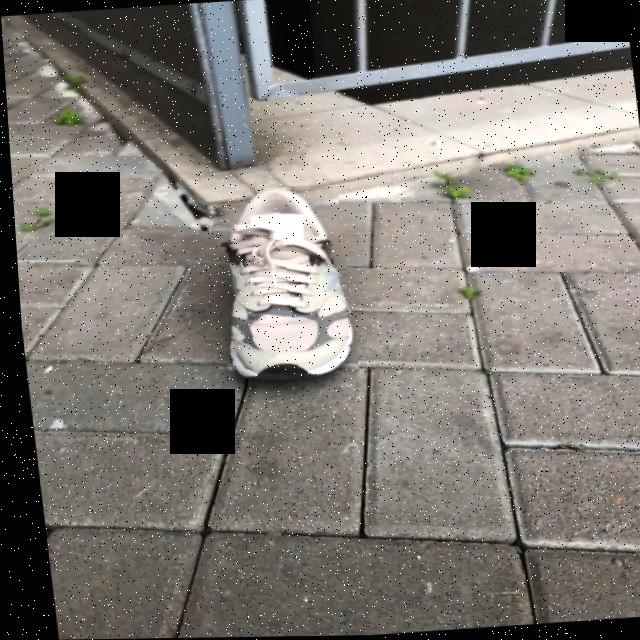shoe: (220, 189, 350, 385)
